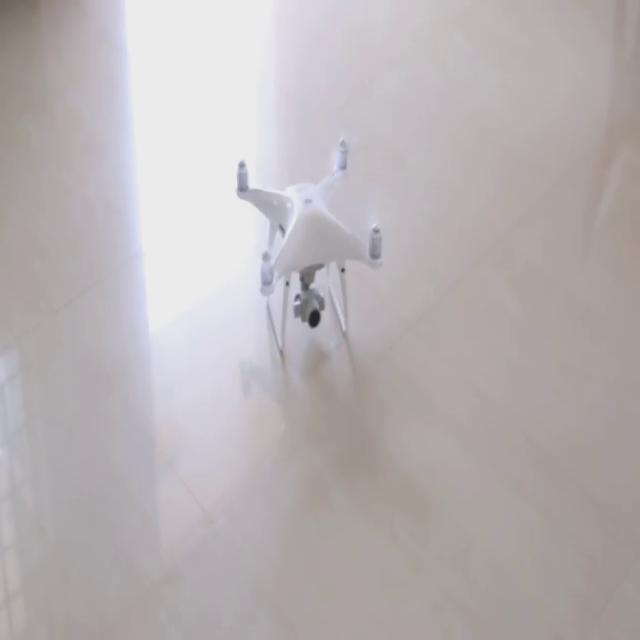drones: (192, 128, 422, 406)
